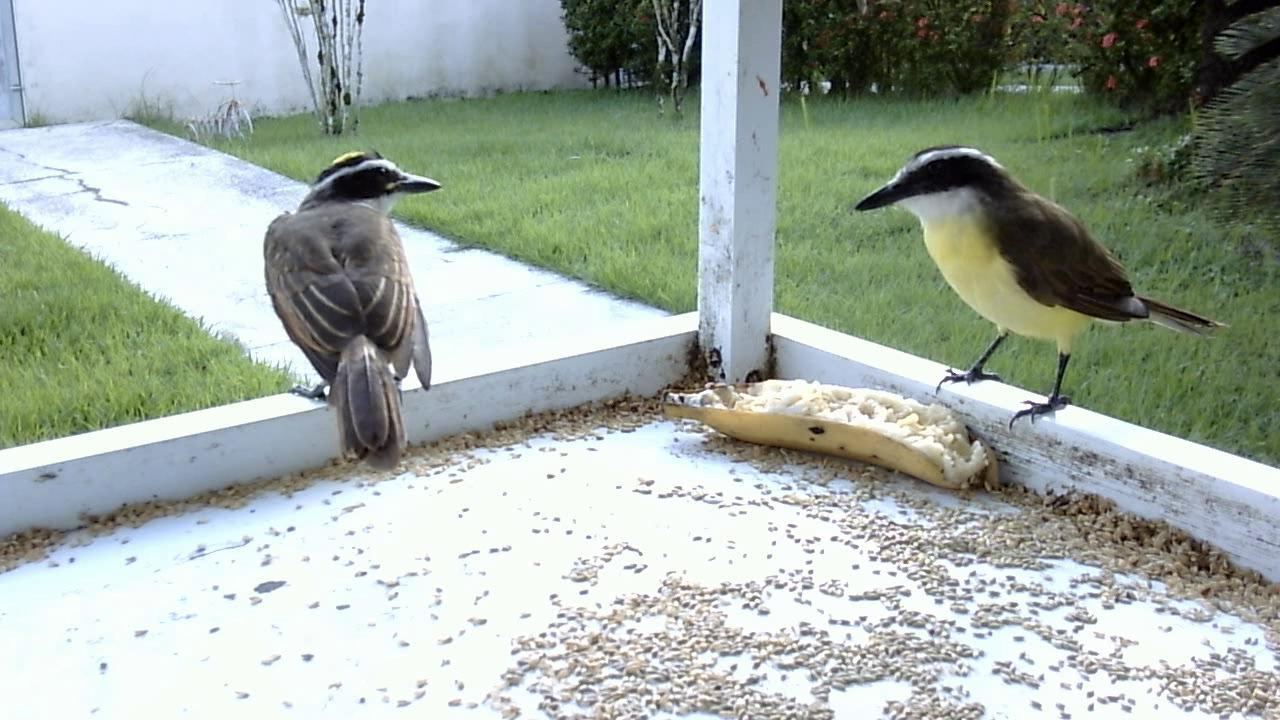bem_te_vi: (832, 135, 1232, 449), (252, 143, 446, 466)
